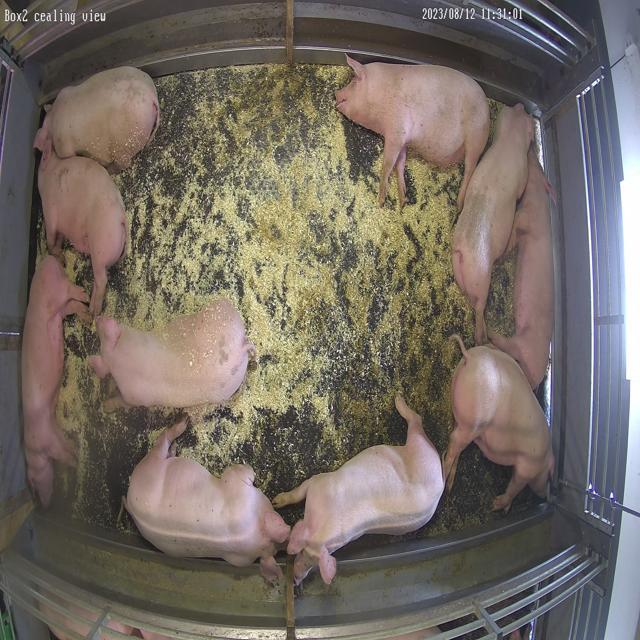Dirt: (269, 269, 472, 498), (224, 64, 317, 165), (421, 448, 511, 536)
Pig: (273, 395, 445, 586), (125, 421, 291, 582), (336, 56, 490, 204), (444, 336, 556, 512), (454, 104, 534, 344), (89, 301, 254, 408), (38, 139, 128, 316), (491, 149, 555, 388)
